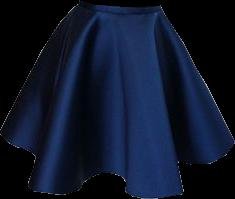Hemline: (0, 131, 234, 198)
Waistline: (78, 4, 161, 15), (80, 0, 159, 8)
